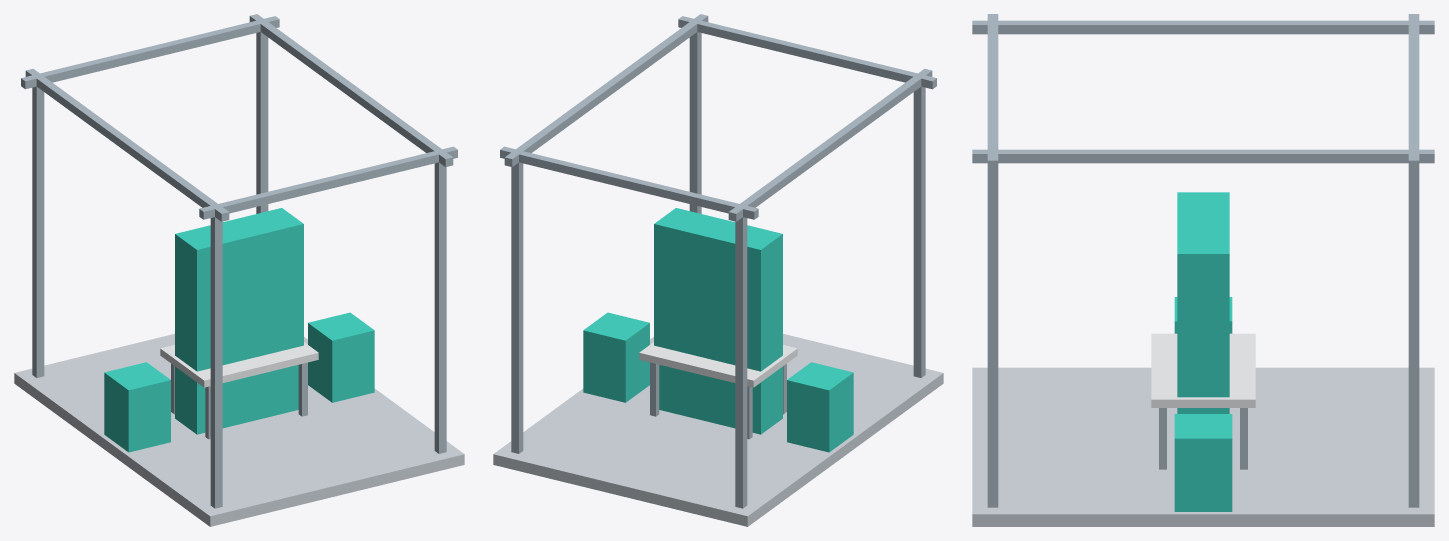
3 views of the same model, side by side, from view 1: azimuth 30°, elevation 25°; view 2: azimuth 150°, elevation 25°; view 3: azimuth 270°, elevation 25° (orthographic). The views are drawn at different scales.
Visible parts, largest first — view 1: Exhibition Booth Concept; view 2: Exhibition Booth Concept; view 3: Exhibition Booth Concept.
Boxes of the visible parts, box(x1,y1,x2,y2) form: Exhibition Booth Concept: box(14, 14, 464, 526); Exhibition Booth Concept: box(493, 14, 943, 526); Exhibition Booth Concept: box(972, 14, 1434, 526).
Size of the model in its own units: 3 by 3.49 by 4.
